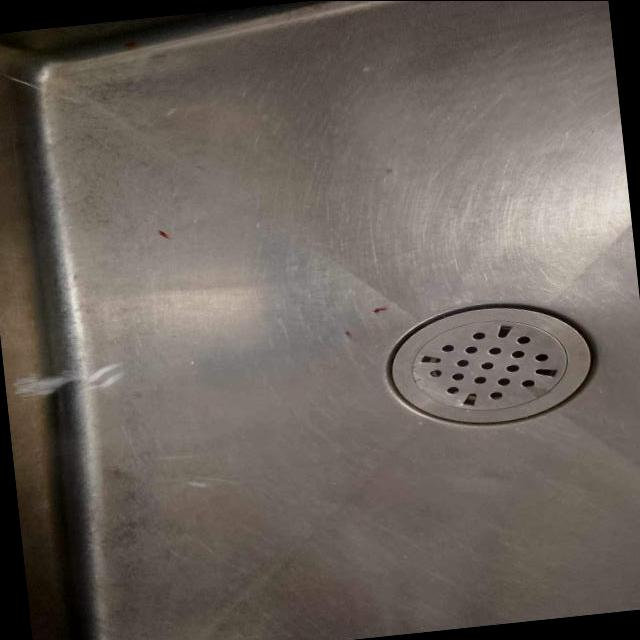Pathological: (1, 1, 638, 638)
Sharps: (9, 356, 127, 401)
